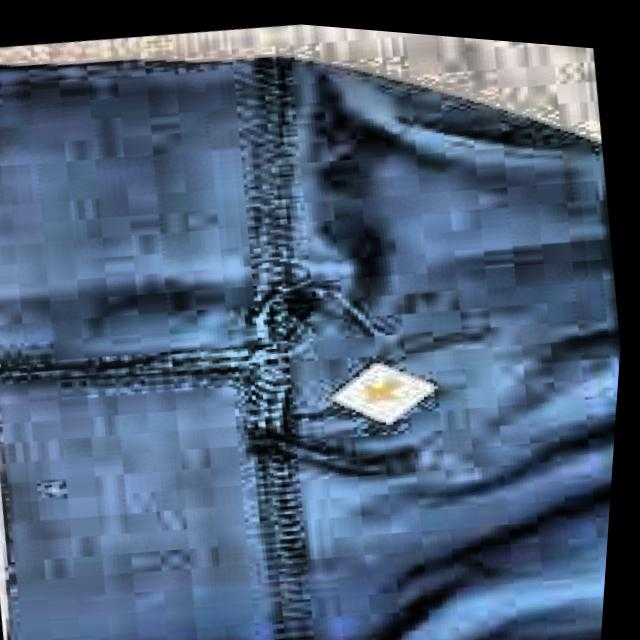Stitch: (202, 385, 402, 536), (223, 220, 418, 371)
